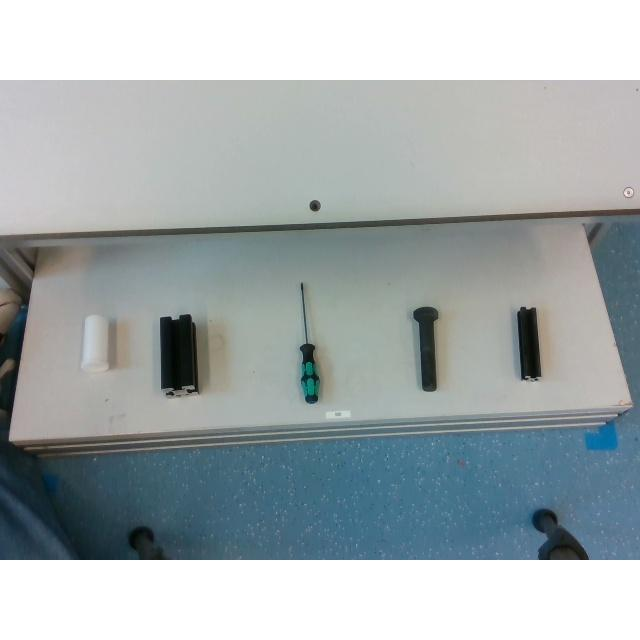F20_20_B: (516, 306, 540, 378)
M20_100: (413, 306, 437, 390)
S40_40_B: (158, 314, 198, 394)
Screwdriver: (300, 283, 320, 402)
Spacer: (80, 315, 108, 369)
